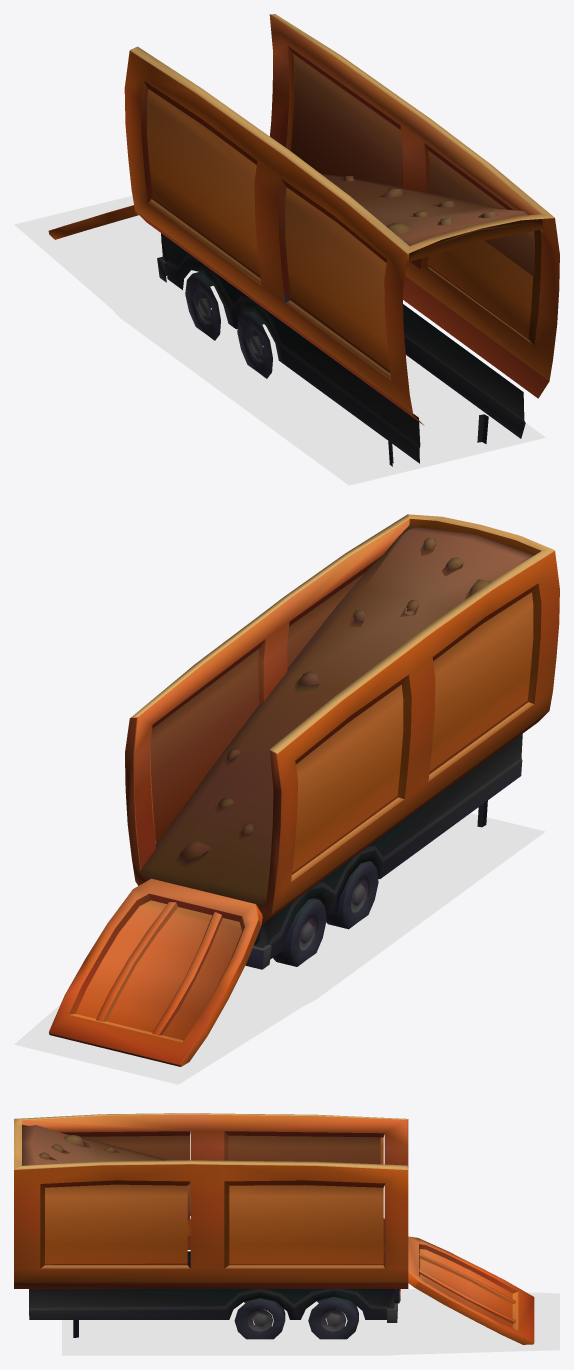
File: City_Ramp5_TruckRamp01 1.fbx
3 views of the same model, one above another, from view 1: azimuth 30°, elevation 25°; view 2: azimuth 150°, elevation 25°; view 3: azimuth 270°, elevation 25° (orthographic). The views are drawn at different scales.
Visible parts, largest first — view 1: city_ramp5_truckRamp01, truckTrailor01Shadow; view 2: city_ramp5_truckRamp01, truckTrailor01Shadow; view 3: city_ramp5_truckRamp01, truckTrailor01Shadow.
Boxes of the visible parts, box(x1,y1,x2,y2) form: city_ramp5_truckRamp01: box(48, 14, 559, 466); truckTrailor01Shadow: box(14, 195, 545, 485); city_ramp5_truckRamp01: box(49, 514, 559, 1066); truckTrailor01Shadow: box(14, 813, 545, 1084); city_ramp5_truckRamp01: box(14, 1113, 534, 1344); truckTrailor01Shadow: box(62, 1289, 559, 1355).
Bounding box in the file's own units: 148 × 191 × 500.
